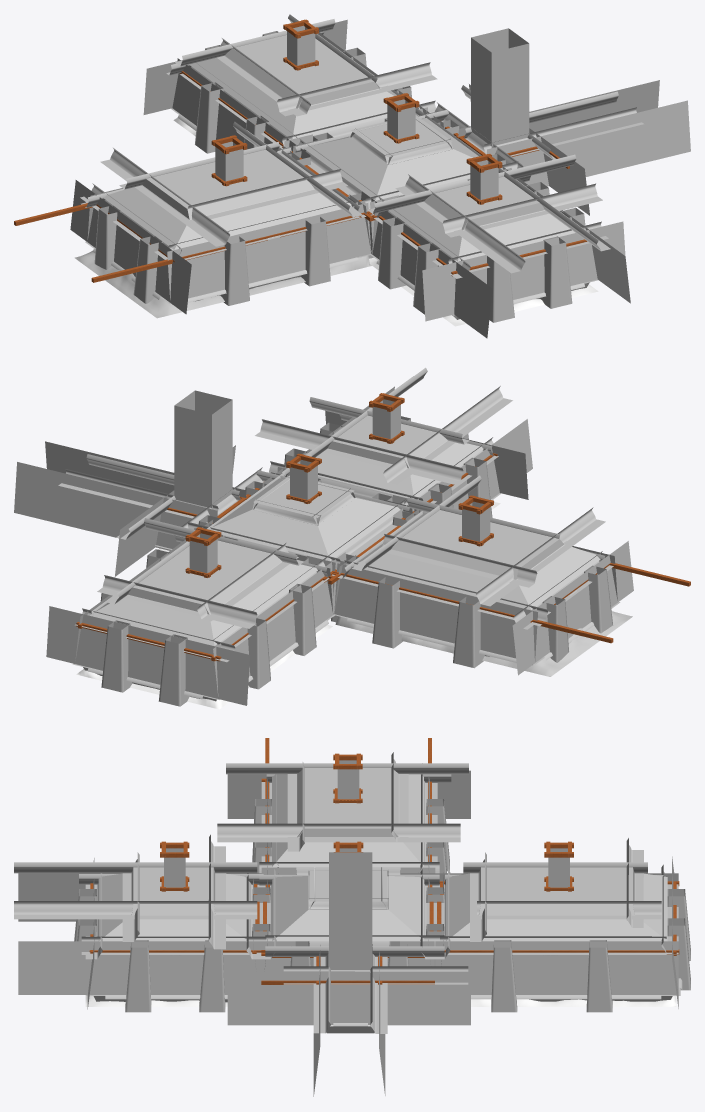
File: MeshBakerResult.fbx
The picture shows the model from 3 angles, top to bottom: view 1: azimuth 30°, elevation 25°; view 2: azimuth 150°, elevation 25°; view 3: azimuth 270°, elevation 25°; orthographic projection. The views are drawn at different scales.
Visible parts, largest first — view 1: GameObject_mesh_mesh; view 2: GameObject_mesh_mesh; view 3: GameObject_mesh_mesh.
Boxes of the visible parts, x1=… form: GameObject_mesh_mesh: x1=14, y1=14, x2=690, y2=338; GameObject_mesh_mesh: x1=14, y1=367, x2=690, y2=709; GameObject_mesh_mesh: x1=14, y1=738, x2=690, y2=1096.
Bounding box in the file's own units: 8645 × 2237 × 7793.
